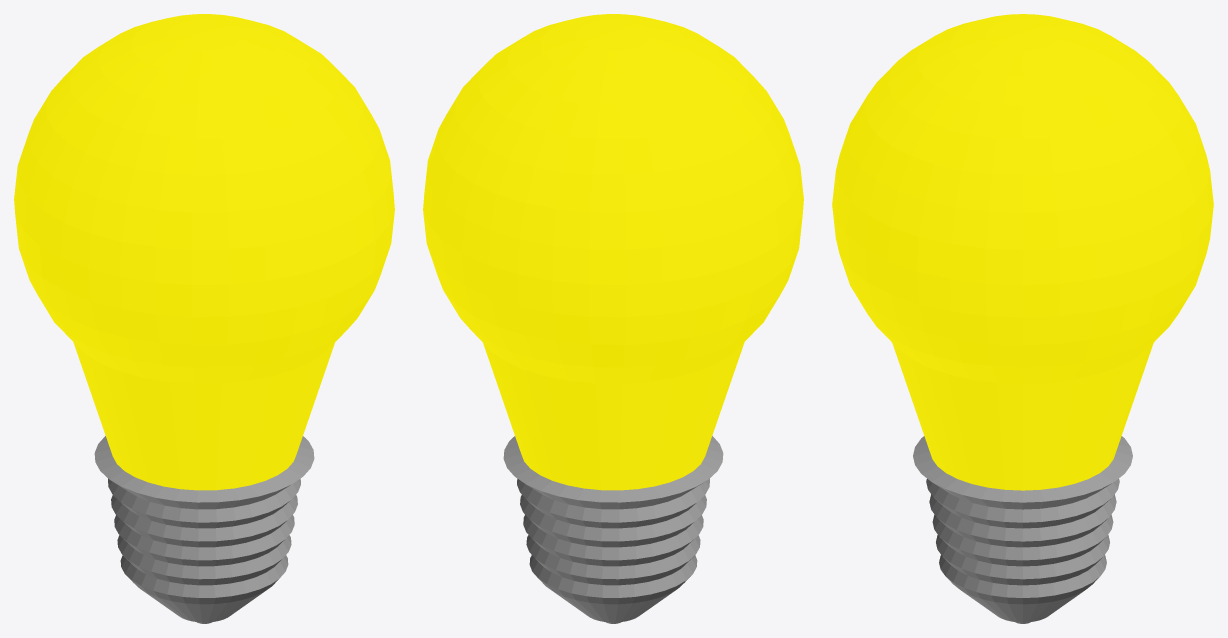
The model's file is Lãmpada.glb.
3 renders of one model, left to right at view 1: azimuth 30°, elevation 25°; view 2: azimuth 150°, elevation 25°; view 3: azimuth 270°, elevation 25°, orthographic.
Parts seen in each view (by area): view 1: Sphere; view 2: Sphere; view 3: Sphere.
Boxes of the visible parts, x1,y1,x2,y2 form: Sphere: (14, 14, 394, 623); Sphere: (423, 14, 803, 623); Sphere: (832, 14, 1213, 623).
Bounding box in the file's own units: 2.89 × 4.91 × 2.89.
